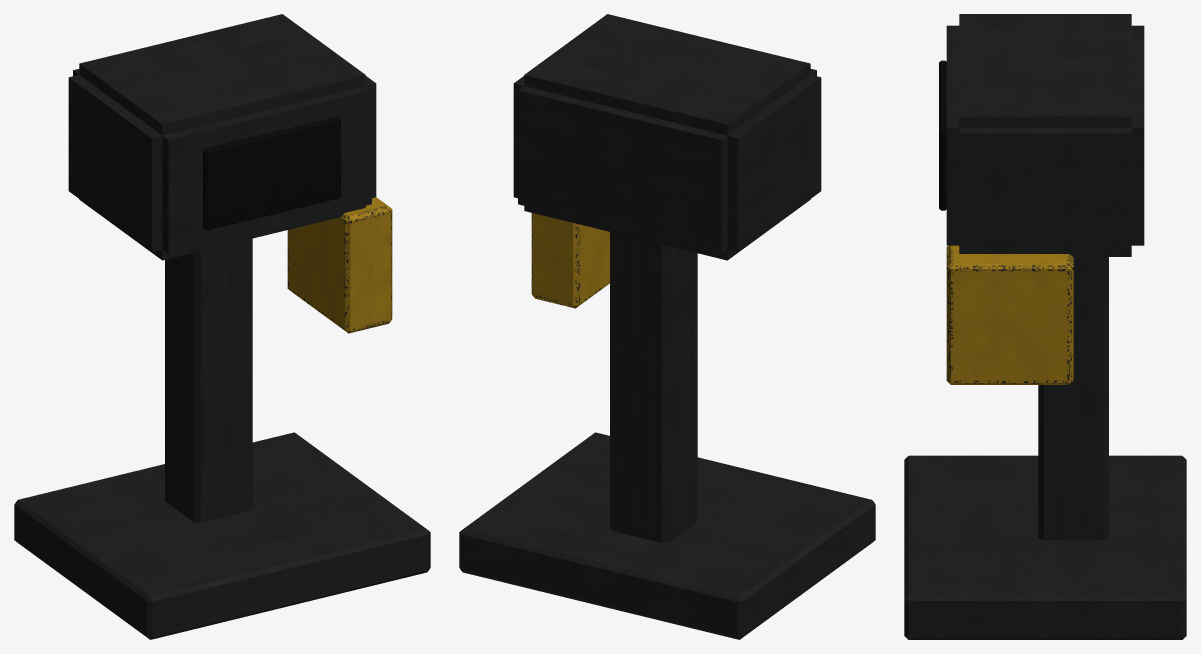
Rendered from RailLowSignal.fbx.
The picture shows the model from 3 angles, left to right: view 1: azimuth 30°, elevation 25°; view 2: azimuth 150°, elevation 25°; view 3: azimuth 270°, elevation 25°; orthographic projection. The views are drawn at different scales.
Visible parts, largest first — view 1: RailLowSignal.001; view 2: RailLowSignal.001; view 3: RailLowSignal.001.
Boxes of the visible parts, x1,y1,x2,y2 form: RailLowSignal.001: [14, 14, 430, 639]; RailLowSignal.001: [459, 14, 875, 639]; RailLowSignal.001: [904, 14, 1186, 639].
Size of the model in its own units: 0.48 by 0.79 by 0.4.
